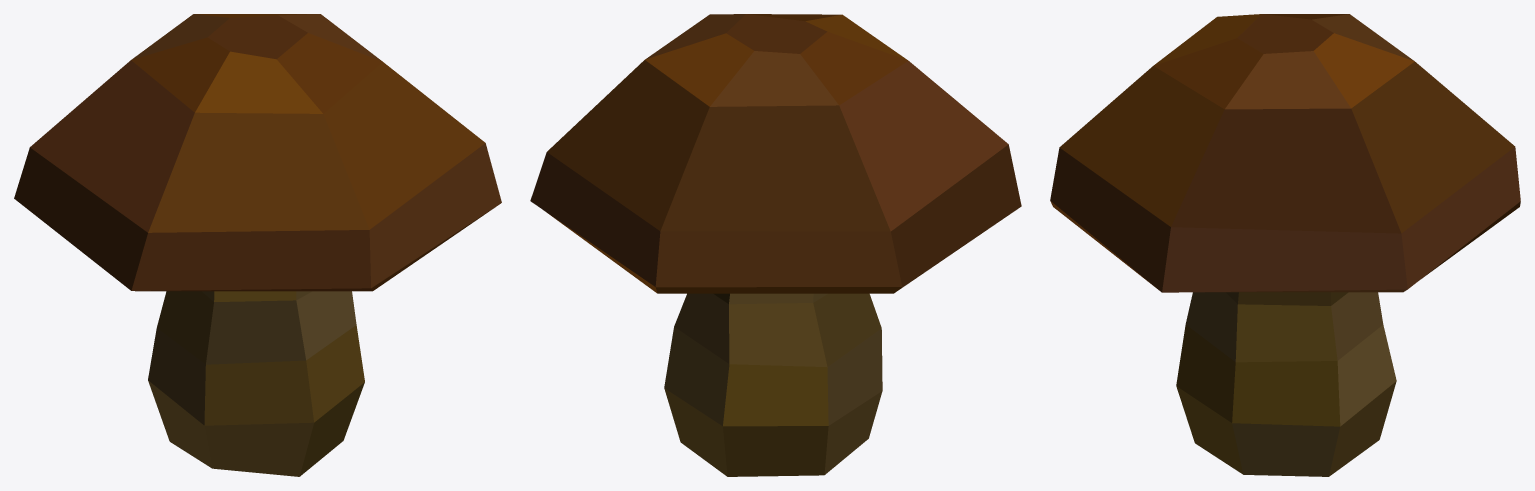
File: TrueMushroom.glb
The picture shows the model from 3 angles, left to right: view 1: azimuth 30°, elevation 25°; view 2: azimuth 150°, elevation 25°; view 3: azimuth 270°, elevation 25°; orthographic projection.
Visible parts, largest first — view 1: TrueMushroom; view 2: TrueMushroom; view 3: TrueMushroom.
Boxes of the visible parts, <box> form: TrueMushroom: <box>14,14,501,476</box>; TrueMushroom: <box>530,14,1021,476</box>; TrueMushroom: <box>1050,14,1520,476</box>.
Size of the model in its own units: 0.1046 by 0.1116 by 0.1157.
